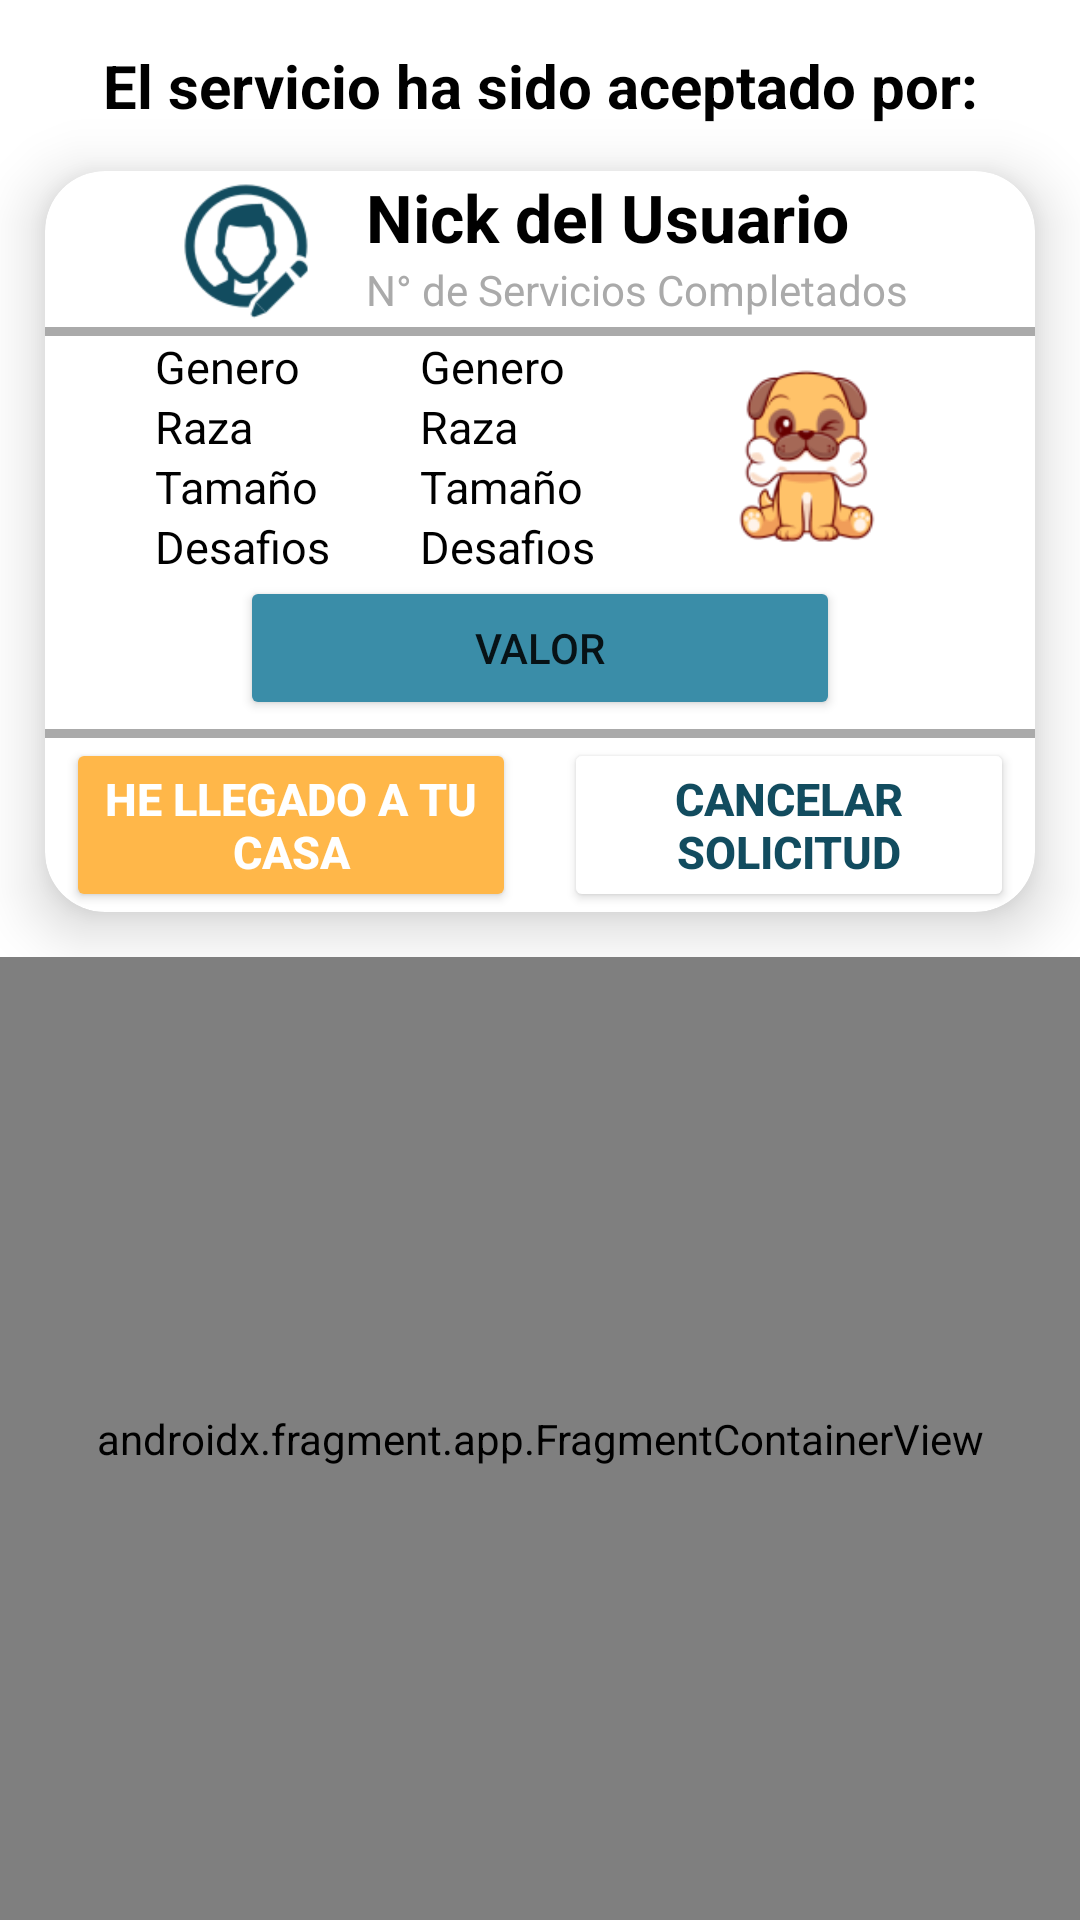

Point at icon controls on the screen. Image size 1080w x 1920h, points as [x,y].
foto perfil: [246,251]
perro: [806,456]
